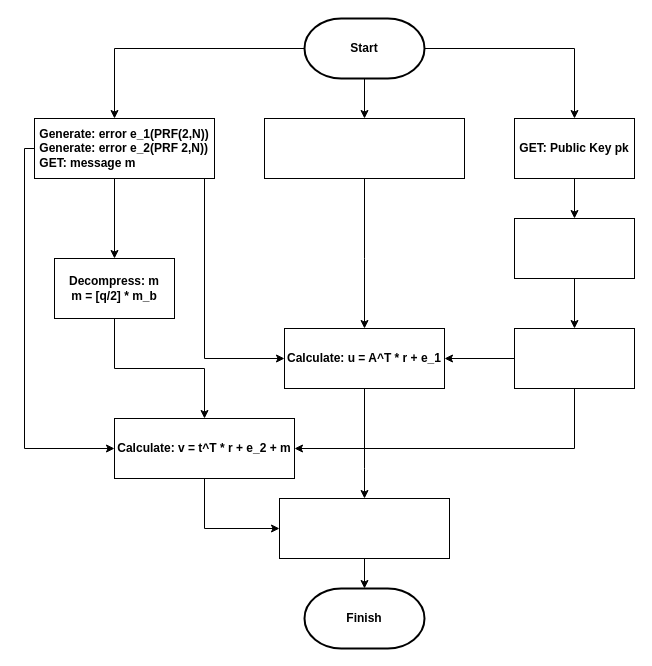
Some shapes in this 652 by 666 pixel diagram are drawn without their labels. The shapes that lost their labels are listed below. From the top down, each one's box as (x1, y1, x2, y2) in pixels, then its label:
(264, 118, 464, 178): Generate: randomizer r(PRF(1,N))
(514, 218, 634, 278): A = pk['A'] t = pk['t']
(514, 328, 634, 388): Transpose: matrix A Transpose: t
(278, 498, 450, 558): Output: encrypted text (u,v)
